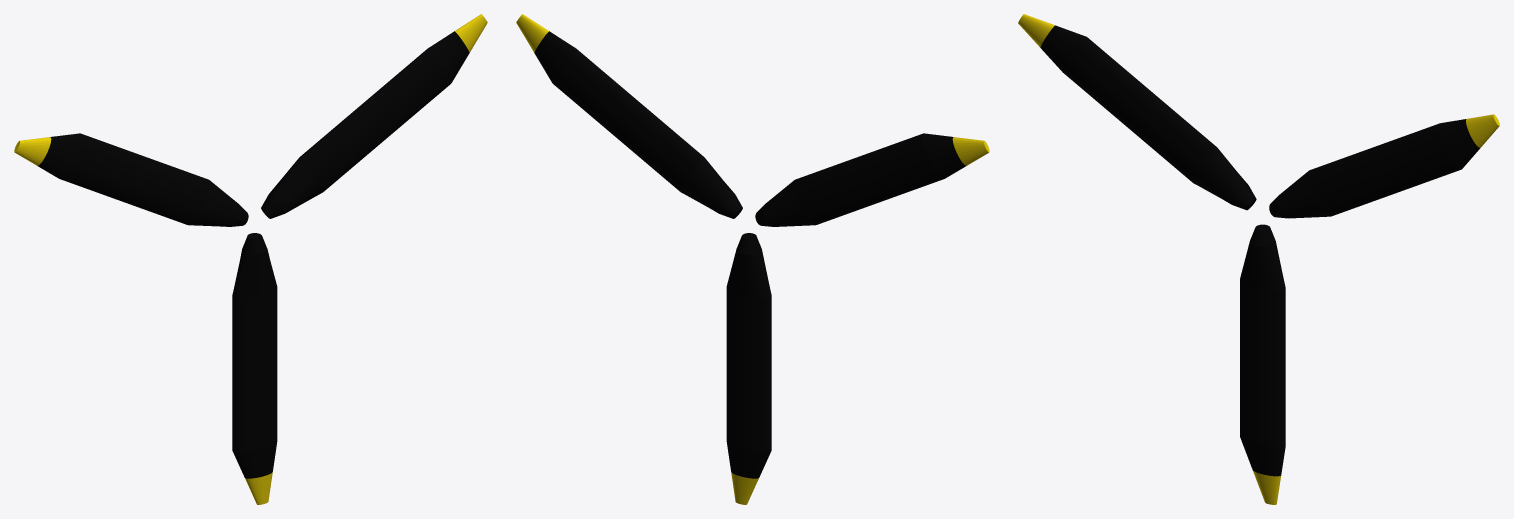
The model's file is propeller.glb.
The picture shows the model from 3 angles, left to right: view 1: azimuth 30°, elevation 25°; view 2: azimuth 150°, elevation 25°; view 3: azimuth 330°, elevation 25°; orthographic projection.
Visible parts, largest first — view 1: Propeller; view 2: Propeller; view 3: Propeller.
Part boxes in pixels (x1,y1,x2,y2): Propeller: (14, 14, 487, 504); Propeller: (516, 14, 989, 504); Propeller: (1018, 14, 1499, 504).
Bounding box in the file's own units: 0.8759 × 0.7713 × 0.0409.
